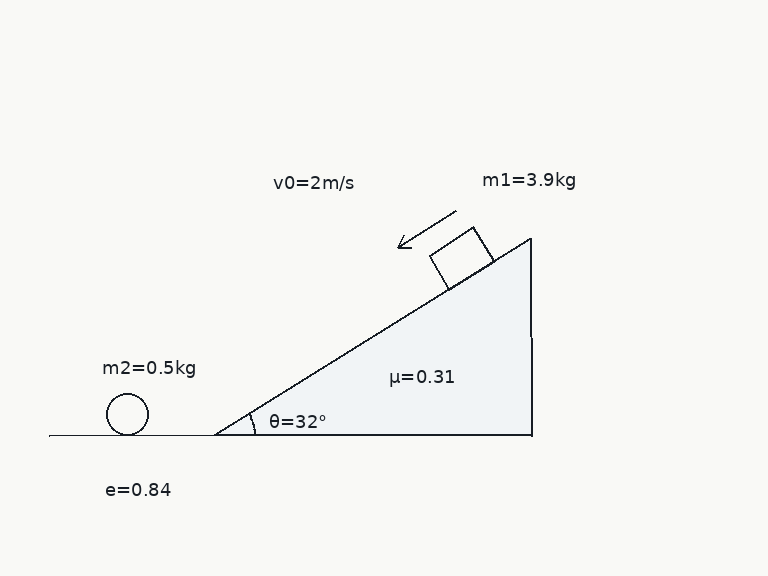ball: (104, 391, 150, 437)
block: (426, 226, 496, 291)
ramp: (213, 236, 532, 437)
